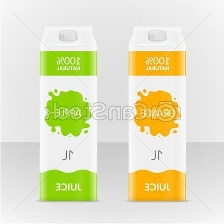carton: (114, 18, 194, 207), (30, 23, 102, 205)
